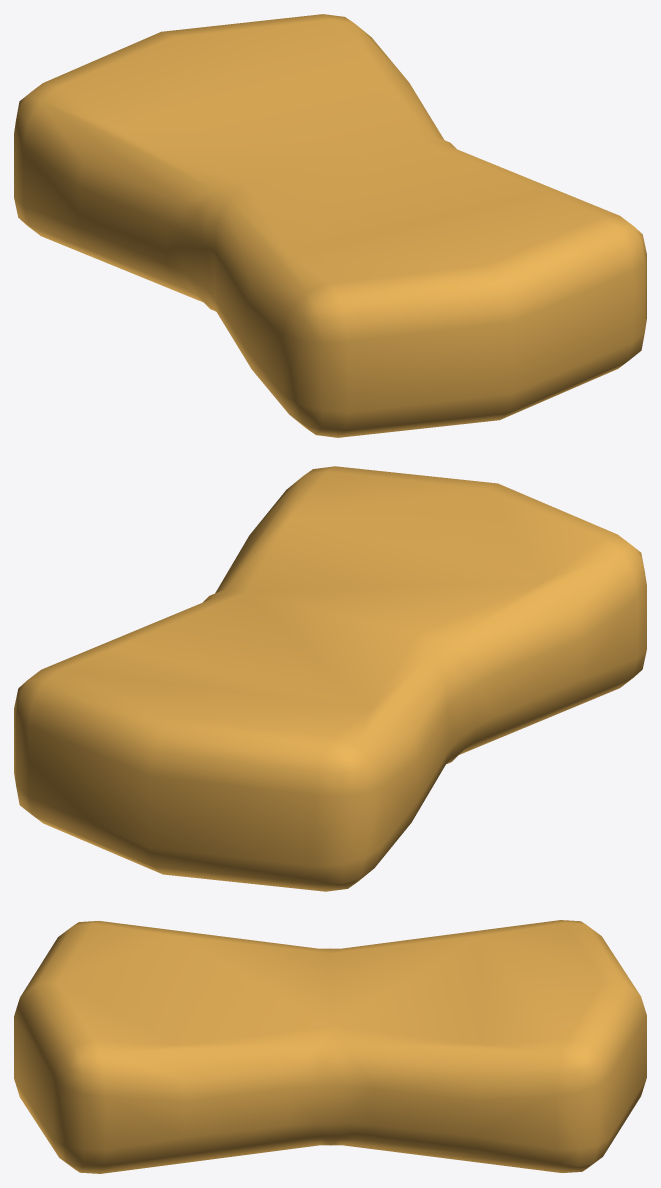
File: Sponge.fbx
The picture shows the model from 3 angles, top to bottom: view 1: azimuth 30°, elevation 25°; view 2: azimuth 150°, elevation 25°; view 3: azimuth 270°, elevation 25°; orthographic projection. The views are drawn at different scales.
Visible parts, largest first — view 1: Sponge; view 2: Sponge; view 3: Sponge.
Part boxes in pixels (bbox=[...]): Sponge: bbox=[14, 14, 646, 437]; Sponge: bbox=[14, 466, 646, 891]; Sponge: bbox=[14, 920, 646, 1173].
Size of the model in its own units: 28.49 by 16.31 by 6.53.
